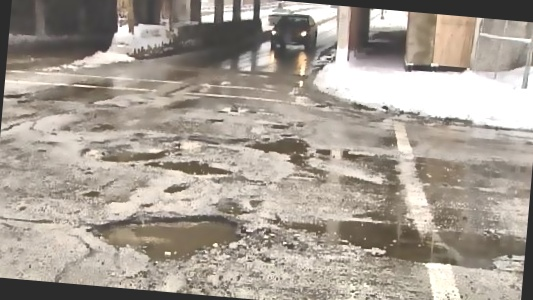pothole: (330, 214, 527, 274), (85, 202, 251, 270), (79, 136, 180, 171), (147, 155, 236, 178), (245, 129, 312, 158)
